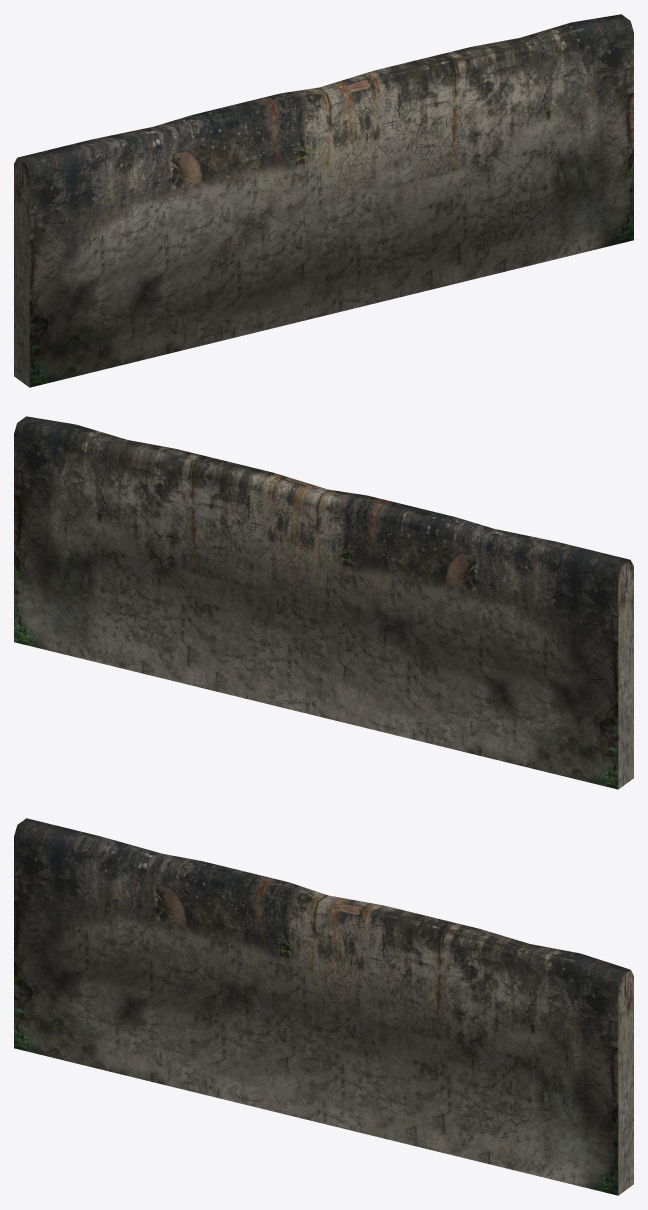
The model's file is oldwall2.obj.
3 renders of one model, top to bottom at view 1: azimuth 30°, elevation 25°; view 2: azimuth 150°, elevation 25°; view 3: azimuth 330°, elevation 25°, orthographic.
Parts seen in each view (by area): view 1: def_surf_mat; view 2: def_surf_mat; view 3: def_surf_mat.
Part boxes in pixels (x1,y1,x2,y2): def_surf_mat: (14,14,633,387); def_surf_mat: (14,416,633,789); def_surf_mat: (14,818,633,1195).
Bounding box in the file's own units: 231 × 80.55 × 10.35.
Materials: 1 (1 with a texture image).
